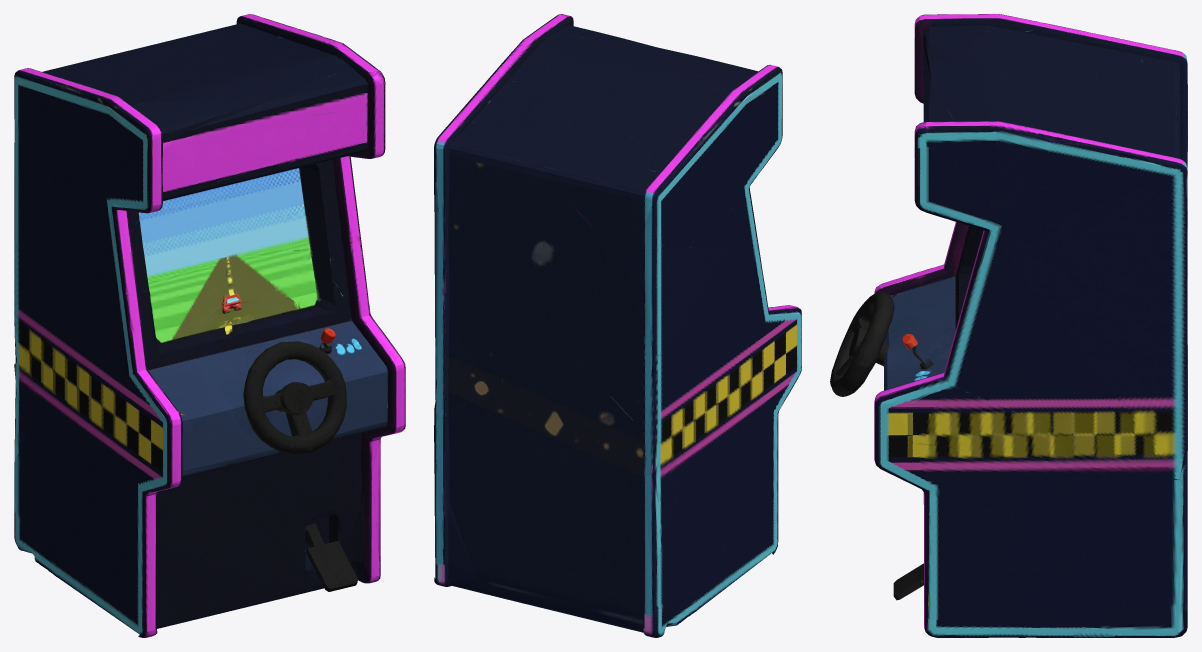
The model's file is maquina-fondo-autos.glb.
3 views of the same model, side by side, from view 1: azimuth 30°, elevation 25°; view 2: azimuth 150°, elevation 25°; view 3: azimuth 270°, elevation 25° (orthographic). The views are drawn at different scales.
Parts seen in each view (by area): view 1: Mesh_0; view 2: Mesh_0; view 3: Mesh_0.
Part boxes in pixels (left/top/right/bottom): Mesh_0: left=14, top=14, right=405, bottom=637; Mesh_0: left=434, top=14, right=801, bottom=637; Mesh_0: left=830, top=14, right=1187, bottom=637.
Size of the model in its own units: 0.9207 by 1.9 by 1.21.
1 material, 1 textured.
